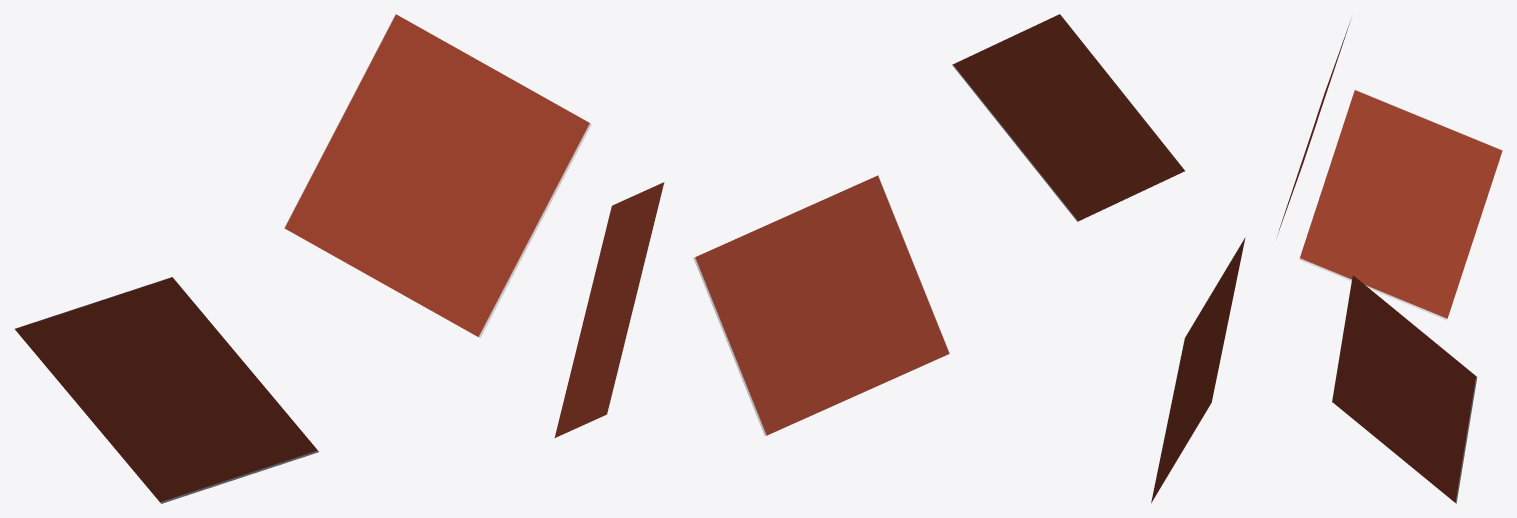
File: Character03_Swelling.fbx
3 renders of one model, left to right at view 1: azimuth 30°, elevation 25°; view 2: azimuth 150°, elevation 25°; view 3: azimuth 270°, elevation 25°, orthographic. The views are drawn at different scales.
Parts seen in each view (by area): view 1: Swelling02, Swelling03, Swelling01; view 2: Swelling01, Swelling02, Swelling03; view 3: Swelling03, Swelling01, Swelling02.
Boxes of the visible parts, x1,y1,x2,y2 form: Swelling02: (284,14,591,337); Swelling03: (15,277,318,503); Swelling01: (554,182,664,437); Swelling01: (693,175,949,436); Swelling02: (952,14,1184,221); Swelling03: (1151,237,1245,503); Swelling03: (1299,90,1502,320); Swelling01: (1332,275,1477,503); Swelling02: (1277,20,1350,235).
Bounding box in the file's own units: 44.14 × 34.64 × 18.5.
Materials: 1 (1 with a texture image).
